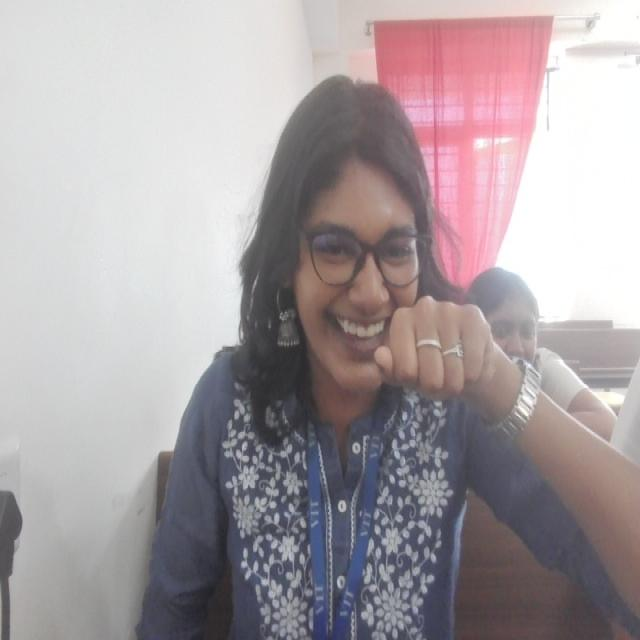yes: (377, 295, 498, 401)
